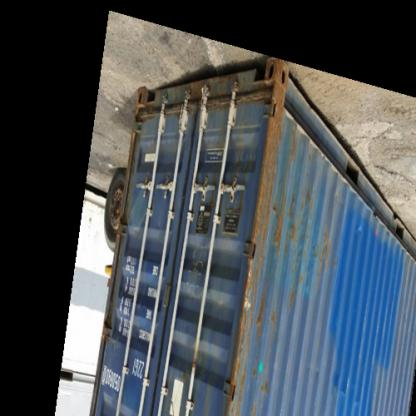Damage: (225, 80, 289, 412), (242, 244, 352, 294), (272, 176, 334, 244), (279, 129, 322, 173)
